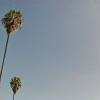Palm tree: (2, 2, 27, 93)
